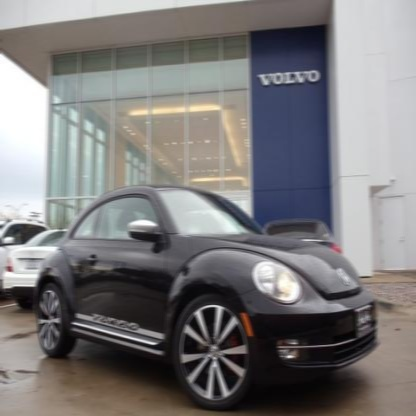Vehicle: (33, 187, 378, 413)
